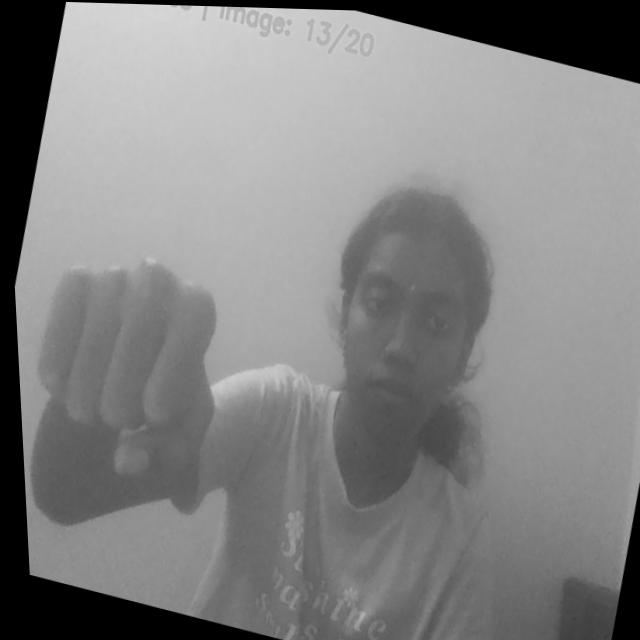Yes: (9, 231, 247, 498)
